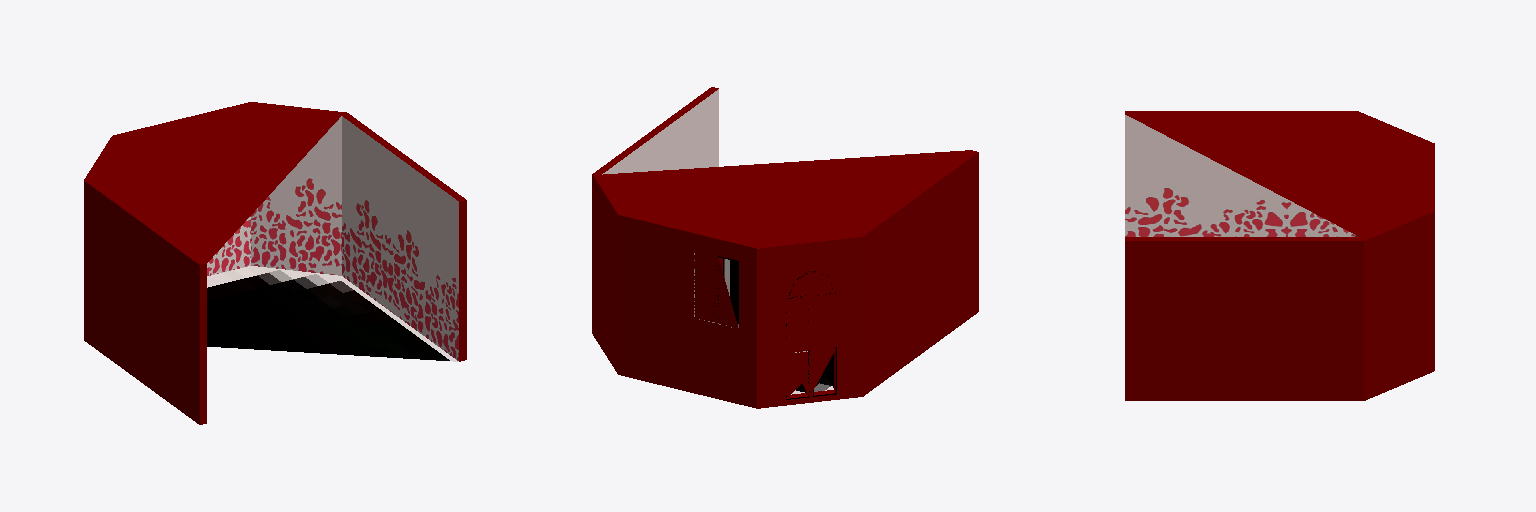
3 renders of one model, left to right at view 1: azimuth 30°, elevation 25°; view 2: azimuth 150°, elevation 25°; view 3: azimuth 270°, elevation 25°, orthographic.
Parts seen in each view (by area): view 1: Cube.160_wall_red, Cube.160_m_koyukırmızı; view 2: Cube.160_m_koyukırmızı, Cube.160_wall_red; view 3: Cube.160_m_koyukırmızı, Cube.160_wall_red.
Part boxes in pixels (left/top/right/bottom): Cube.160_wall_red: left=207, top=116, right=458, bottom=361; Cube.160_m_koyukırmızı: left=84, top=102, right=466, bottom=424; Cube.160_m_koyukırmızı: left=592, top=87, right=978, bottom=408; Cube.160_wall_red: left=602, top=89, right=836, bottom=399; Cube.160_m_koyukırmızı: left=1125, top=111, right=1434, bottom=400; Cube.160_wall_red: left=1125, top=115, right=1357, bottom=236.
Bounding box in the file's own units: 68.08 × 38.99 × 68.21.
2 materials, 1 textured.